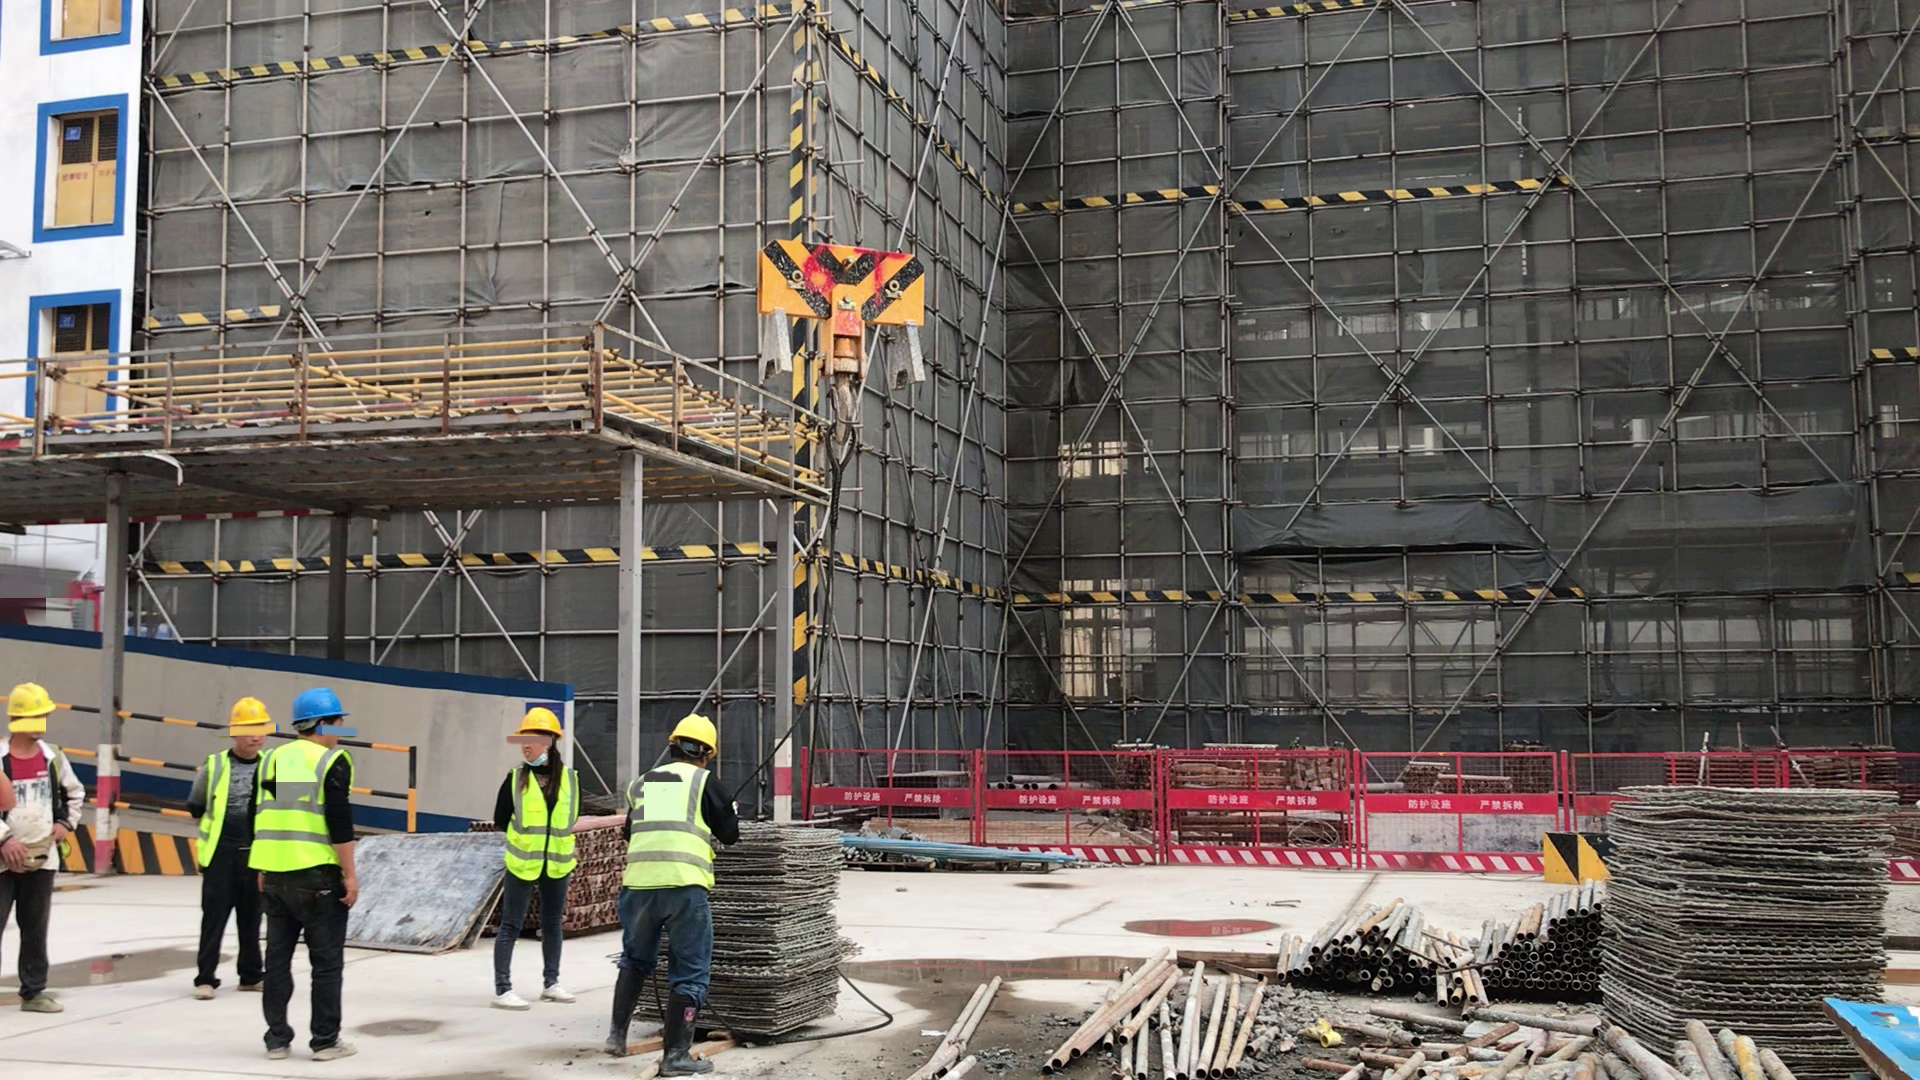fence: (804, 753, 1920, 873)
helmet: (669, 715, 718, 755), (295, 687, 348, 718), (8, 684, 56, 717), (517, 709, 563, 734), (232, 699, 271, 725)
hook: (755, 243, 925, 464)
person: (604, 716, 725, 1066), (252, 687, 362, 1063), (493, 709, 577, 1010), (1, 685, 78, 1010), (189, 699, 270, 997)
scaffold: (582, 816, 623, 935)
vest: (627, 773, 721, 893), (255, 742, 340, 873), (501, 770, 579, 884), (201, 754, 232, 862)
